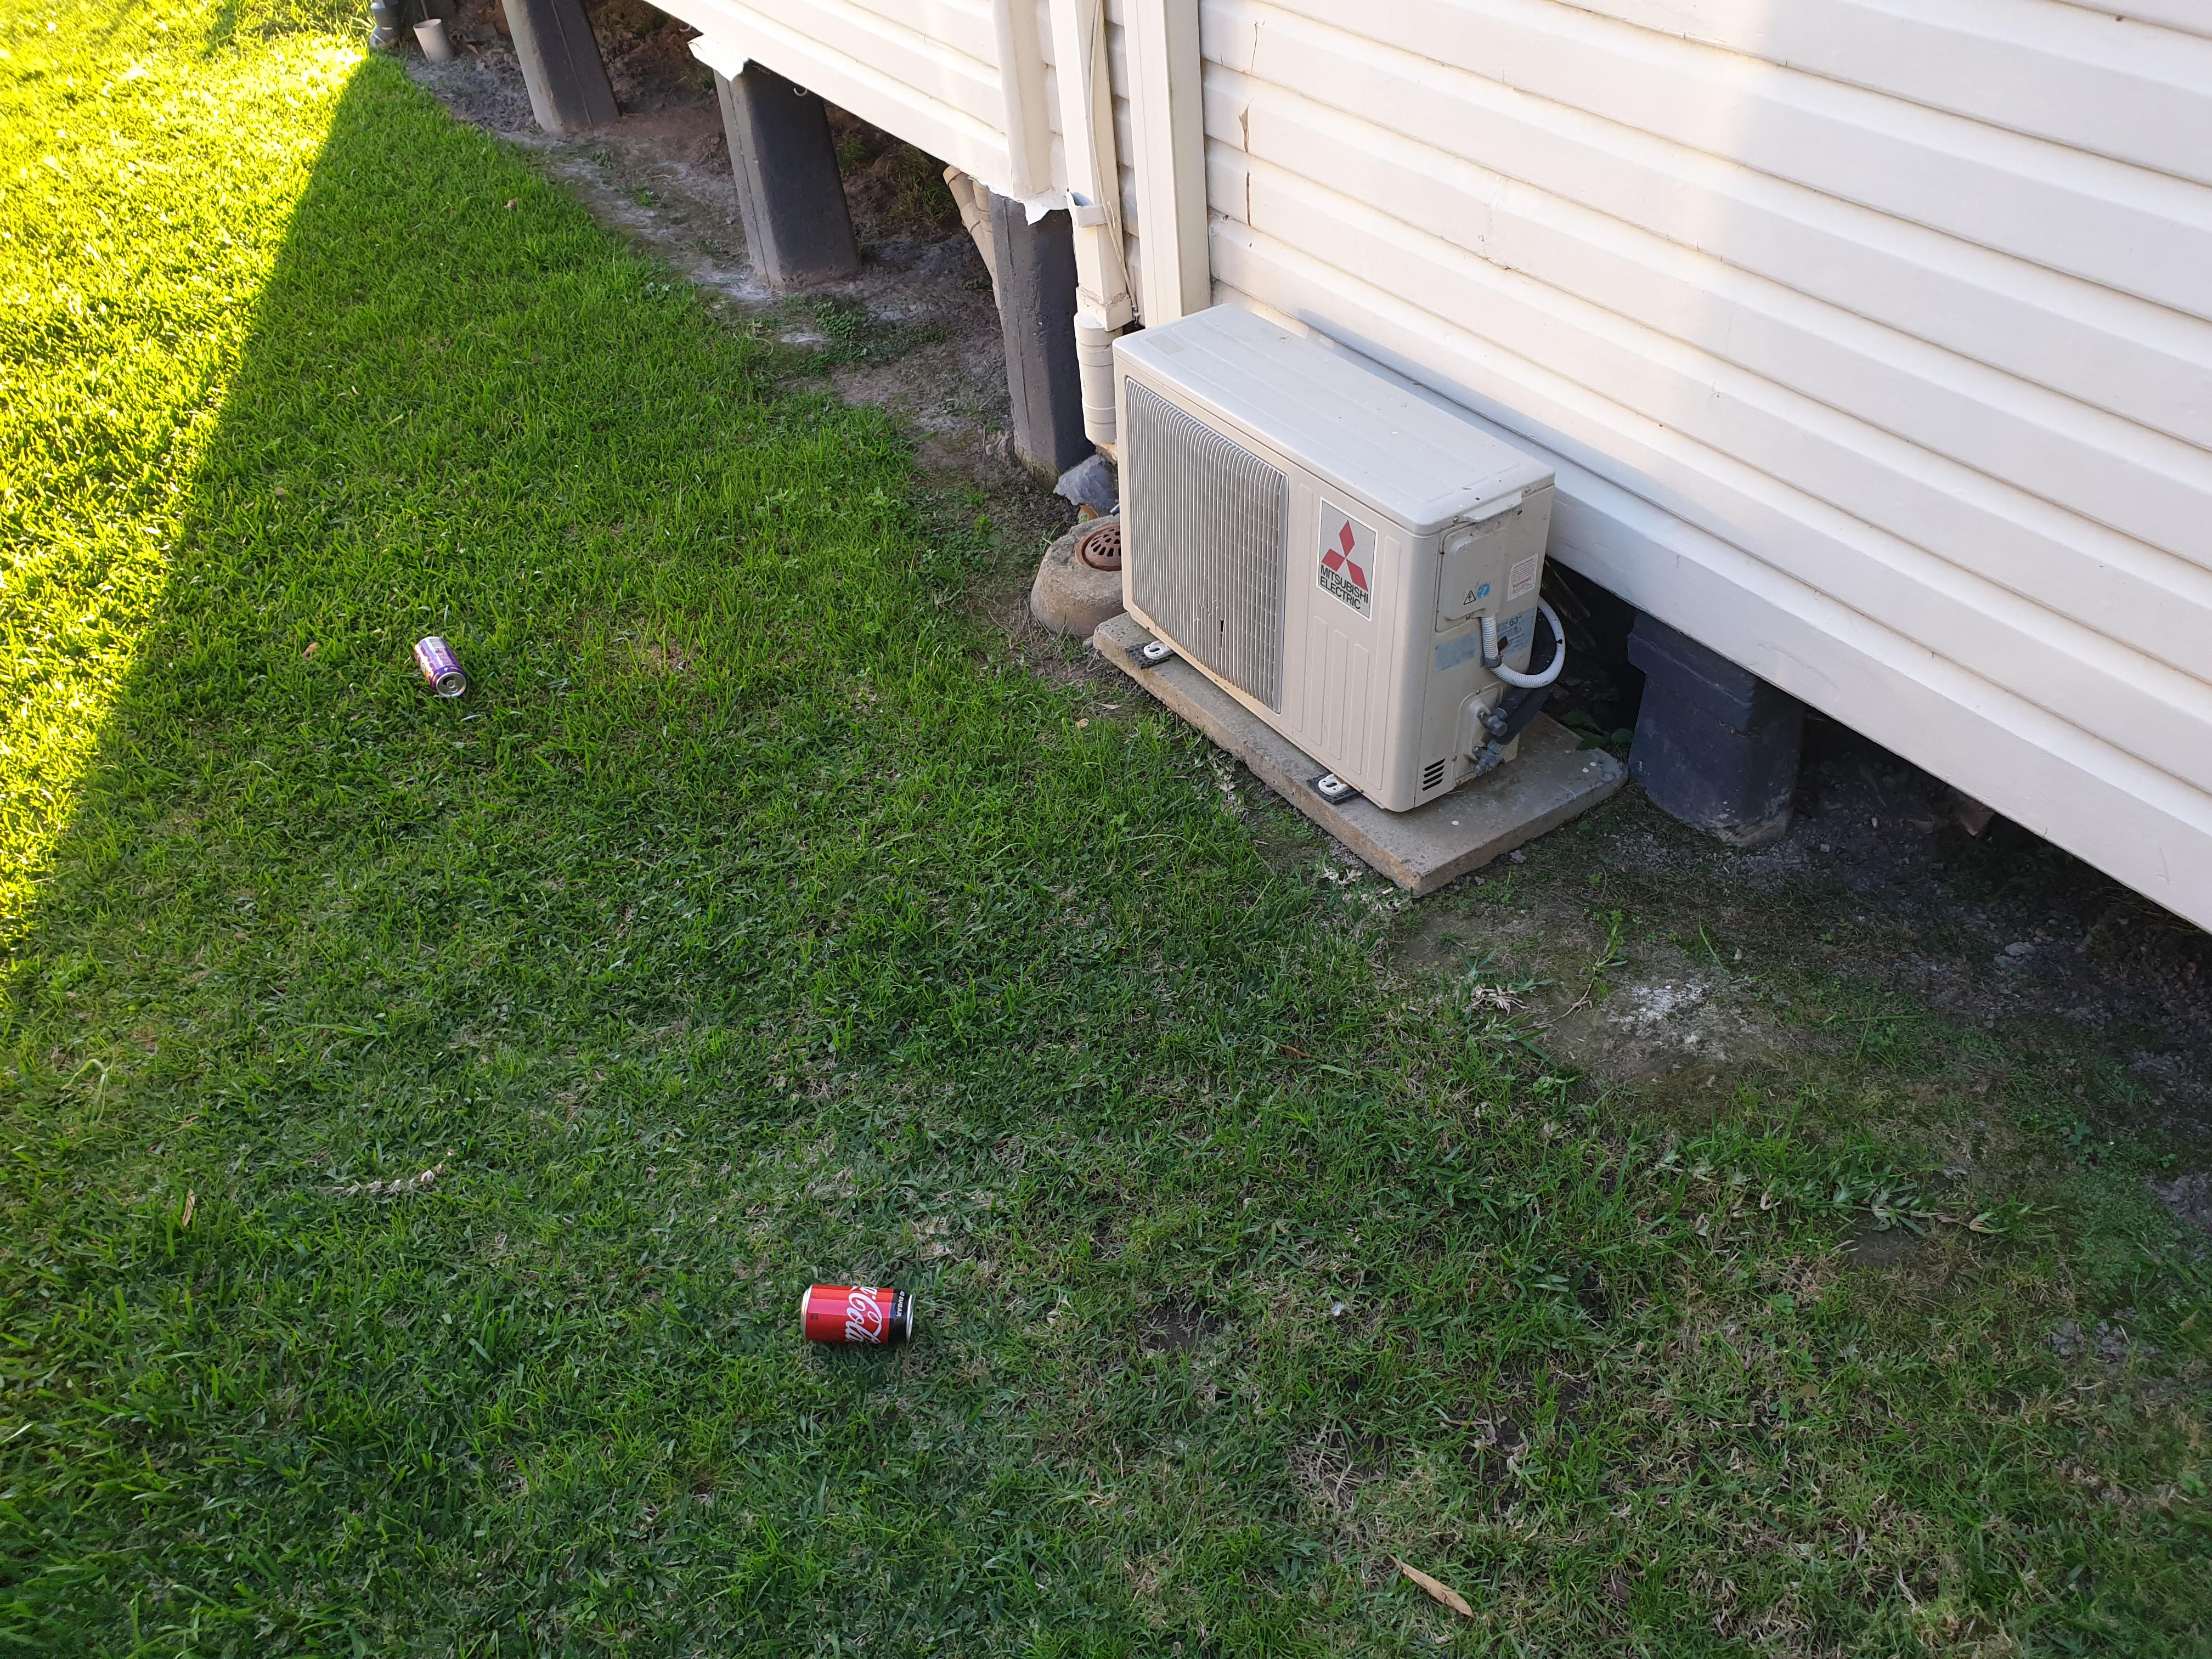Plastic Bottle: (801, 1284, 913, 1344), (413, 636, 469, 697)
